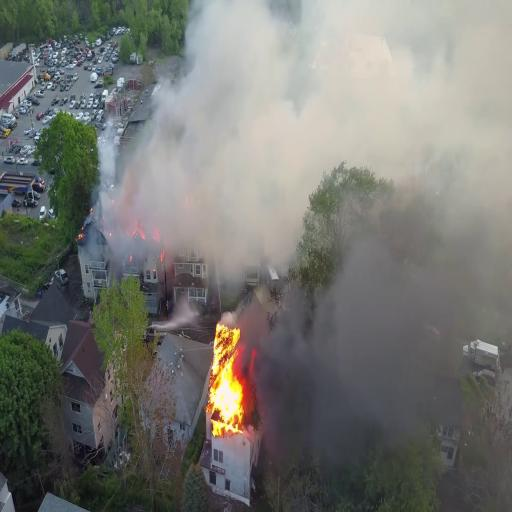fire: (212, 319, 242, 438)
smoke: (154, 0, 249, 265)
